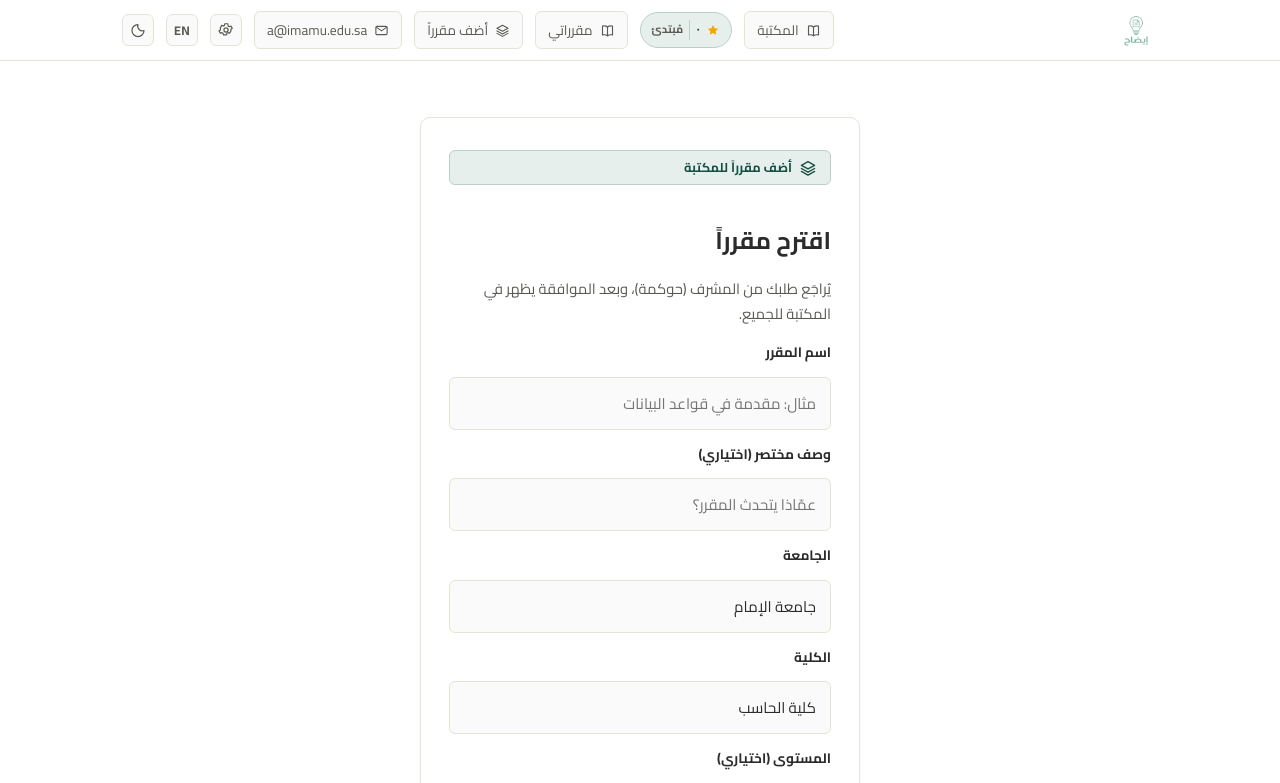
تُعبّئ الجامعة من الملف وترسل الطلب ثم تعرض نجاحاً
This screenshot has width=1280, height=783.
Expected: the field labelled "الجامعة" holds "جامعة الإمام", [449,580,831,633]
Type "قواعد البيانات" into the field labelled "اسم المقرر".
click(640, 403); type("قواعد البيانات")  # box [449,377,831,430]
(page scrolled)
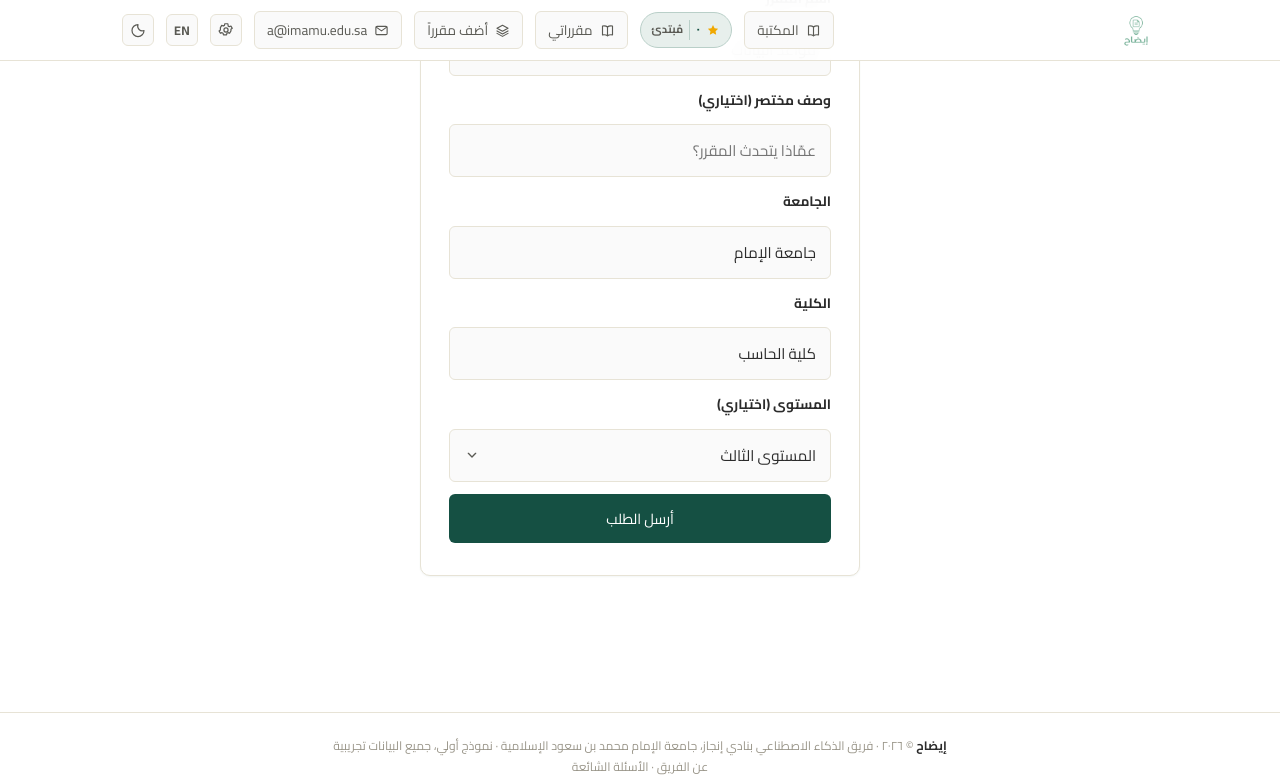
Click the button "أرسل الطلب".
click(640, 518)  # box [449,494,831,543]
(page scrolled)
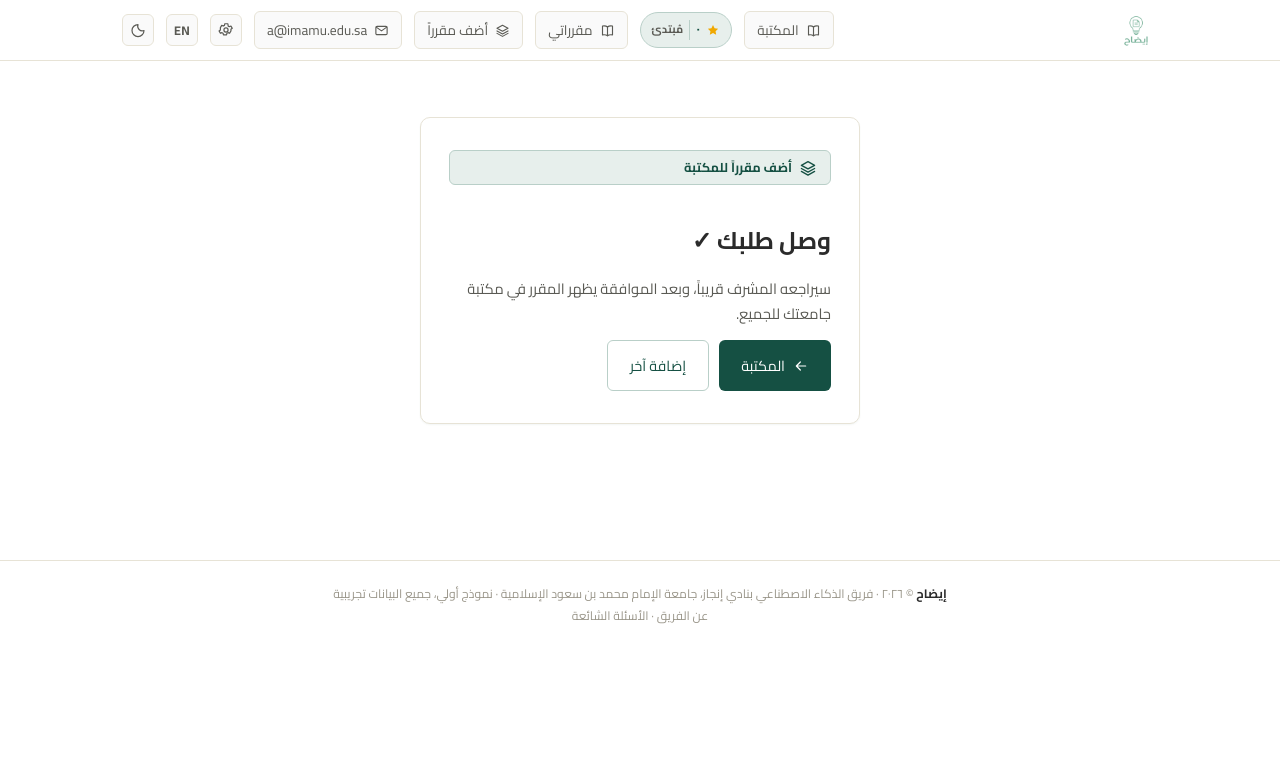
Now the heading "وصل طلبك ✓" is shown, box [692,218,831,263]
